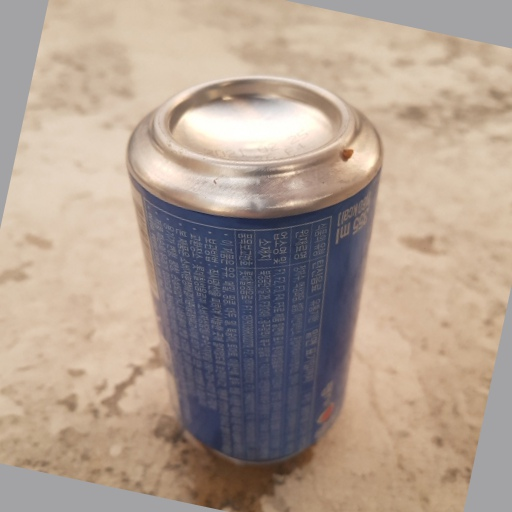Metal_0: (123, 75, 383, 468)
